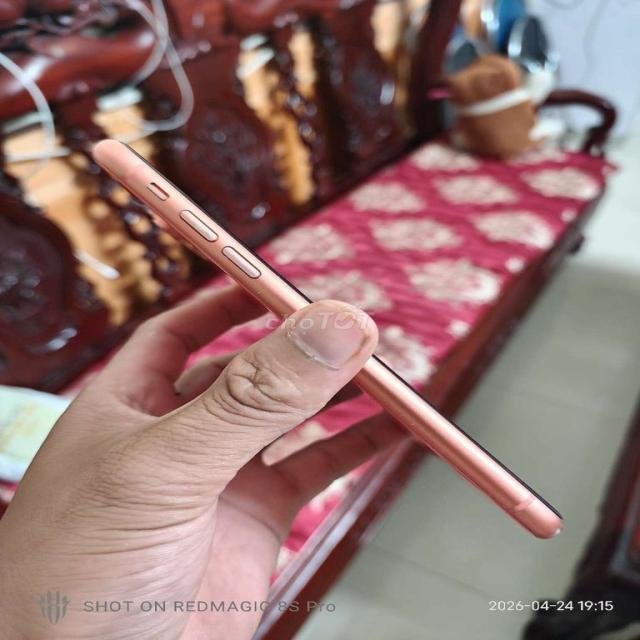scratch: (244, 283, 280, 301), (401, 416, 423, 435), (493, 498, 509, 518)
